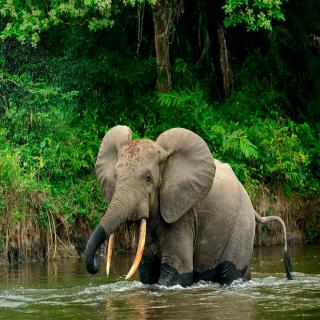Elephant: (82, 122, 297, 300)
